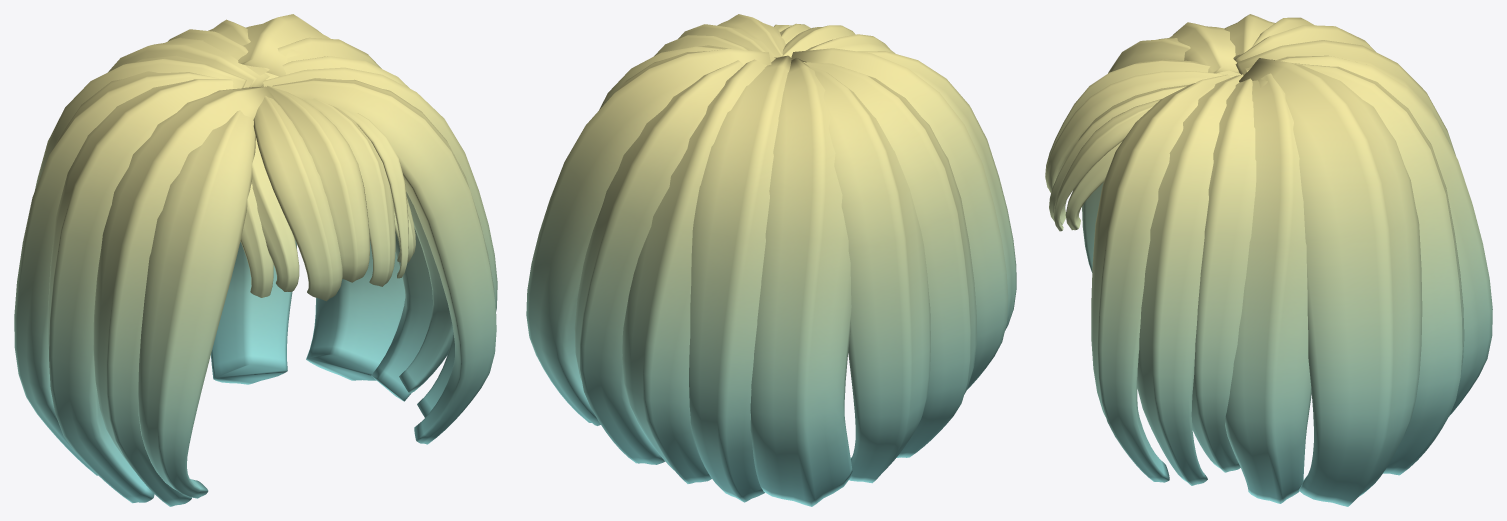
Rendered from hairb1.fbx.
The picture shows the model from 3 angles, left to right: view 1: azimuth 30°, elevation 25°; view 2: azimuth 150°, elevation 25°; view 3: azimuth 270°, elevation 25°; orthographic projection. The views are drawn at different scales.
Parts seen in each view (by area): view 1: NurbsPath.022; view 2: NurbsPath.022; view 3: NurbsPath.022.
Part boxes in pixels (x1,y1,x2,y2): NurbsPath.022: (14,14,497,506); NurbsPath.022: (526,14,1016,506); NurbsPath.022: (1045,14,1492,506).
Bounding box in the file's own units: 305 × 319 × 302.
